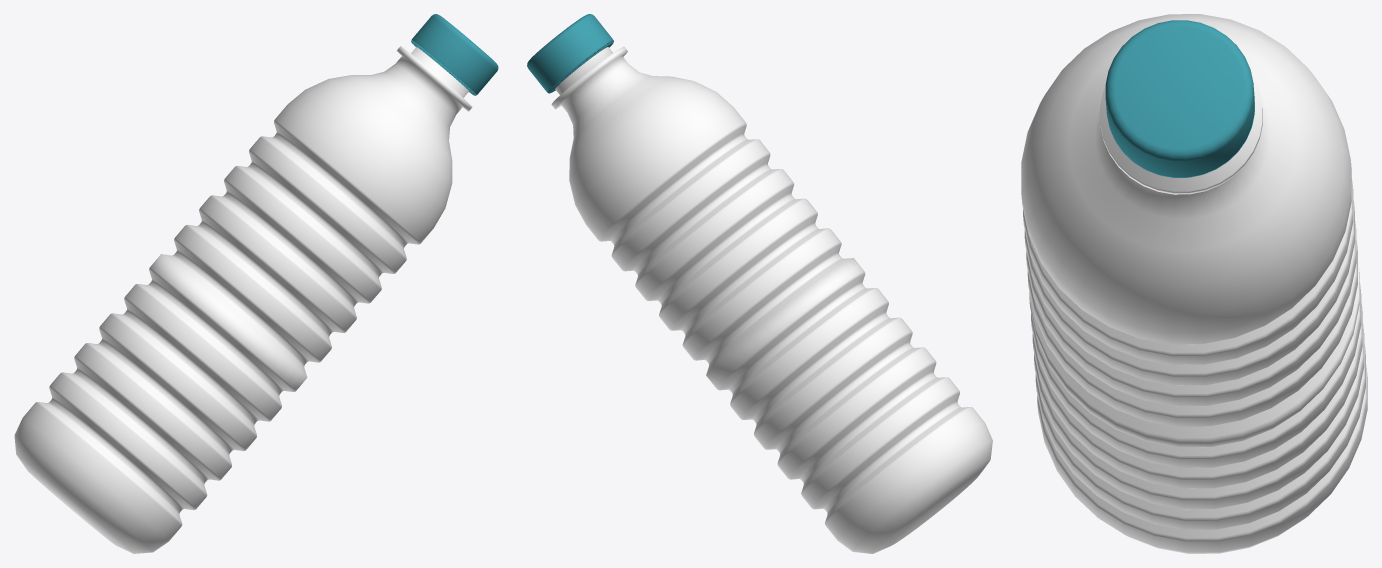
File: Plastic_Bottle.glb
3 views of the same model, side by side, from view 1: azimuth 30°, elevation 25°; view 2: azimuth 150°, elevation 25°; view 3: azimuth 270°, elevation 25° (orthographic). The views are drawn at different scales.
Visible parts, largest first — view 1: Object_2; view 2: Object_2; view 3: Object_2.
Boxes of the visible parts, <box> form: Object_2: <box>14,14,498,553</box>; Object_2: <box>527,14,992,553</box>; Object_2: <box>1021,14,1367,553</box>.
Size of the model in its own units: 12.35 by 11.78 by 4.71.
